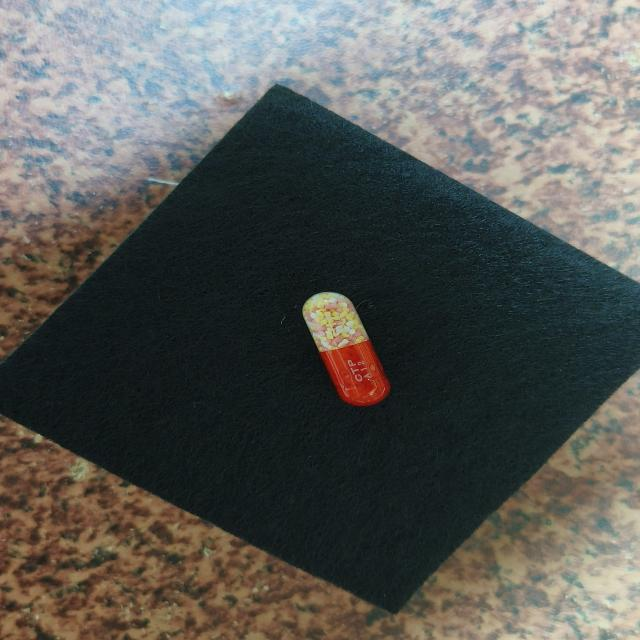Intact Capsule: (302, 292, 391, 406)
